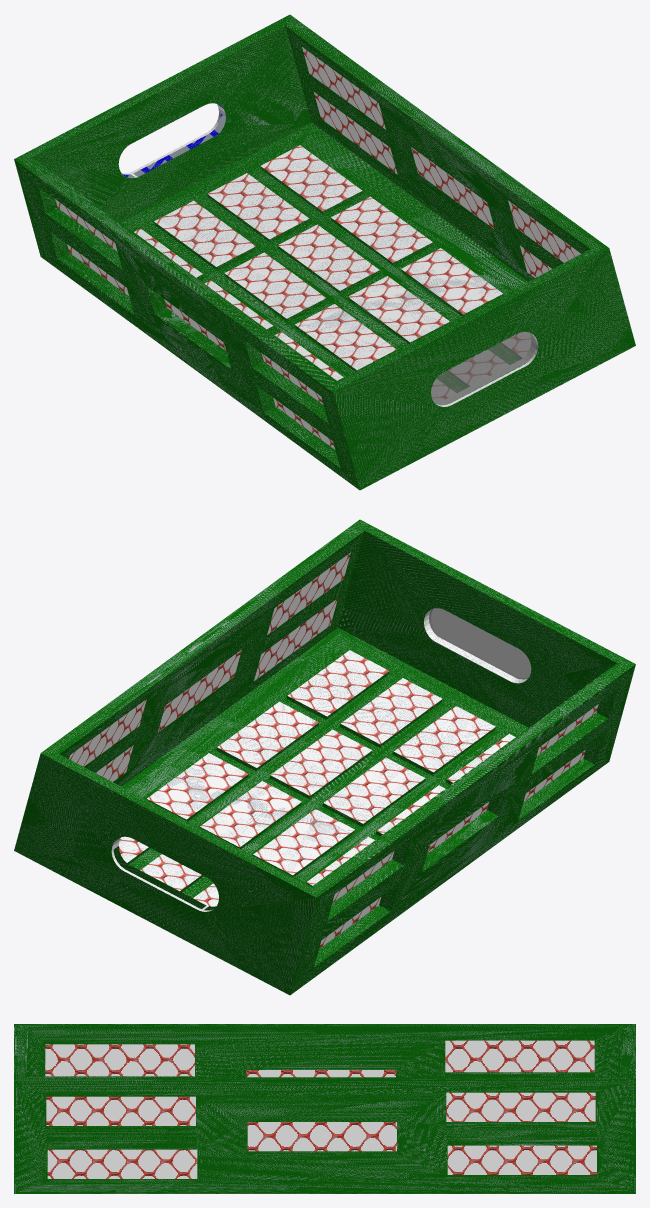
3 renders of one model, top to bottom at view 1: azimuth 30°, elevation 25°; view 2: azimuth 150°, elevation 25°; view 3: azimuth 270°, elevation 25°, orthographic. The views are drawn at different scales.
Parts seen in each view (by area): view 1: SketchUp (×24); view 2: SketchUp (×23); view 3: SketchUp (×15).
Part boxes in pixels (x1=…): SketchUp (×24): x1=14, y1=14, x2=635, y2=490; SketchUp (×23): x1=14, y1=519, x2=635, y2=995; SketchUp (×15): x1=14, y1=1024, x2=635, y2=1193.
Size of the model in its own units: 17.35 by 31.69 by 9.94.
Materials: 6 (2 with a texture image).
